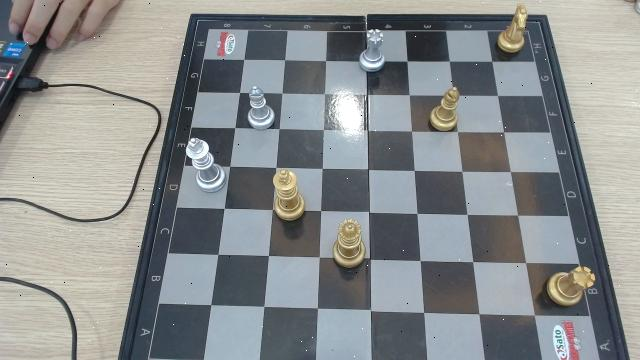black_bishop: (426, 88, 458, 132)
black_king: (270, 169, 305, 220)
black_knight: (495, 5, 529, 54)
black_queen: (333, 220, 366, 267)
black_rook: (545, 267, 596, 307)
white_bishop: (247, 87, 279, 130)
white_king: (184, 139, 227, 193)
white_rook: (357, 30, 386, 73)
